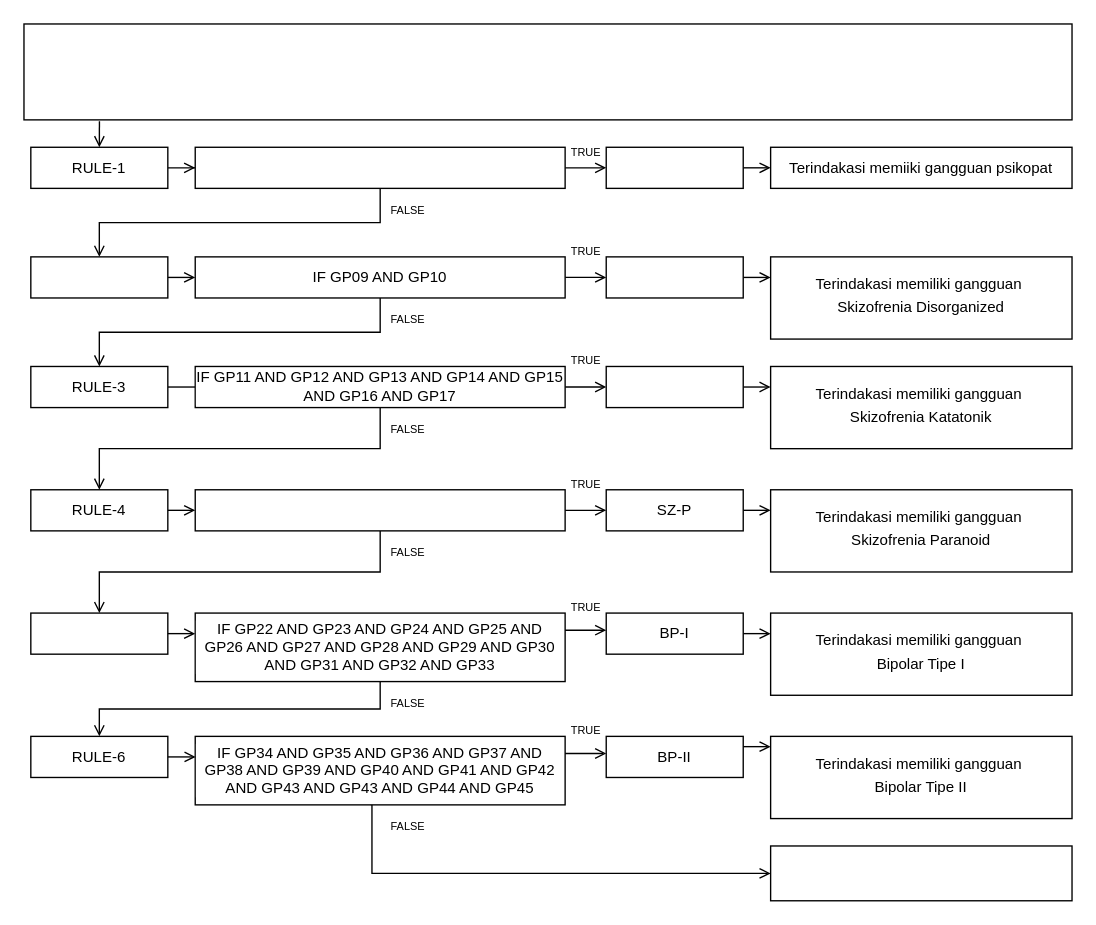
The diagram is 1096 pixels wide and 925 high, and some of its shapes have lost their labels. Each missing label, with the centre of its shape:
IF GP01 AND GP02 AND GP03 AND GP04 AND GP05 AND GP06 AND GP07 AND GP08: the point at 379,167
IF GP18 AND GP19 AND GP20 AND GP21: the point at 379,509
PZ: the point at 674,167
RULE-2: the point at 98,277
RULE-5: the point at 98,633
Sistem Pakar Diagnosis Penyakit Kejiwaan: the point at 547,71
SZ-D: the point at 674,277
SZ-K: the point at 674,386
Tidak diketahui Sistem: the point at 920,873
